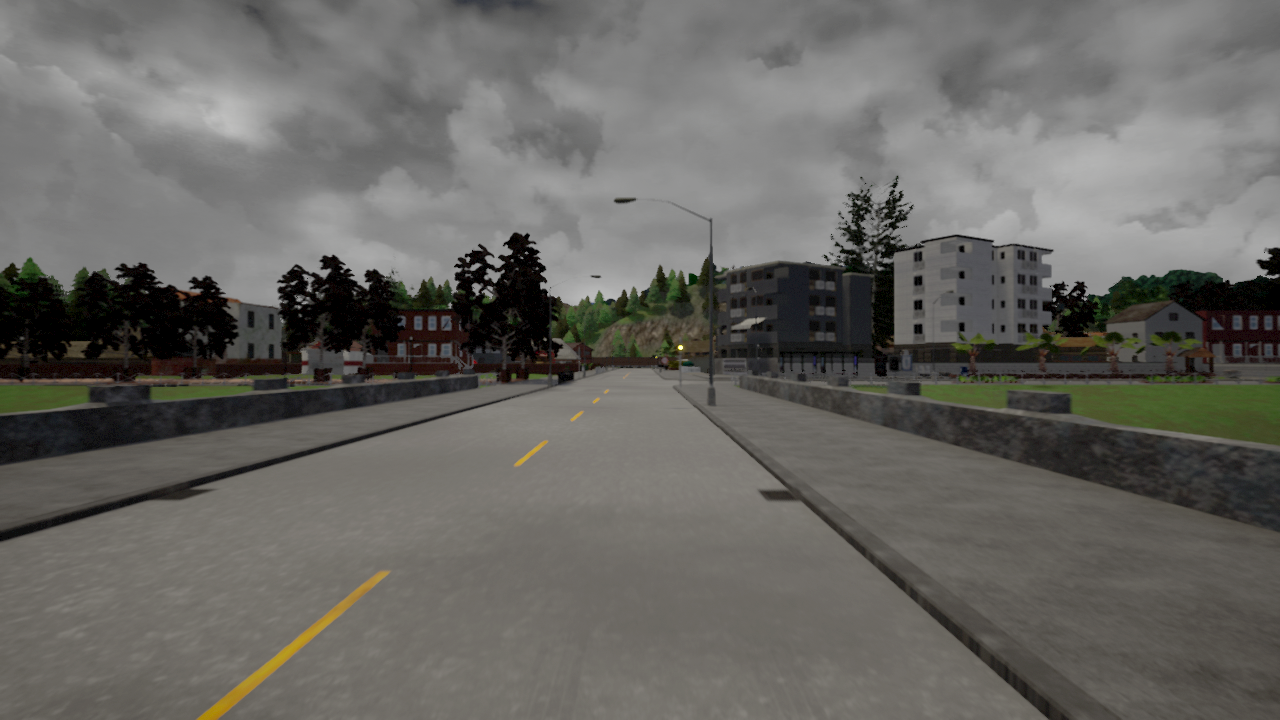yellow: (677, 340, 683, 356)
